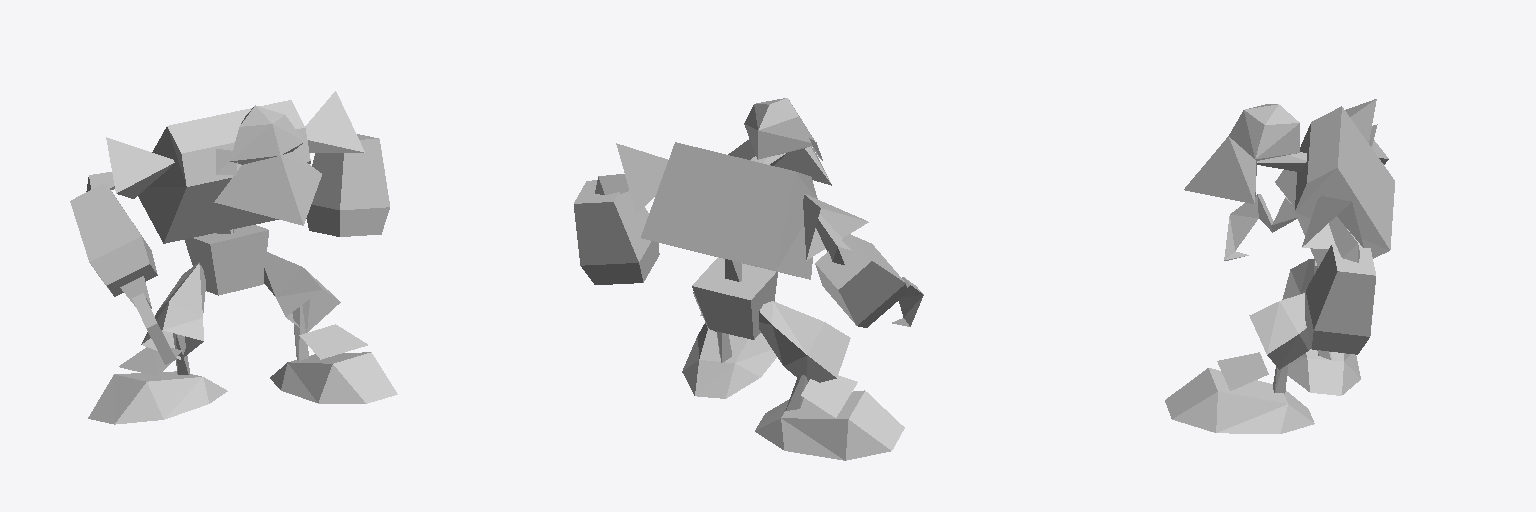
The model's file is Robo-Pirate Rotate.obj.
3 views of the same model, side by side, from view 1: azimuth 30°, elevation 25°; view 2: azimuth 150°, elevation 25°; view 3: azimuth 270°, elevation 25° (orthographic).
Parts seen in each view (by area): view 1: Mesh_0011; view 2: Mesh_0011; view 3: Mesh_0011.
Part boxes in pixels (bbox=[...]): Mesh_0011: bbox=[70, 91, 397, 424]; Mesh_0011: bbox=[574, 98, 923, 460]; Mesh_0011: bbox=[1165, 99, 1394, 433].
Size of the model in its own units: 146 by 138 by 95.38.